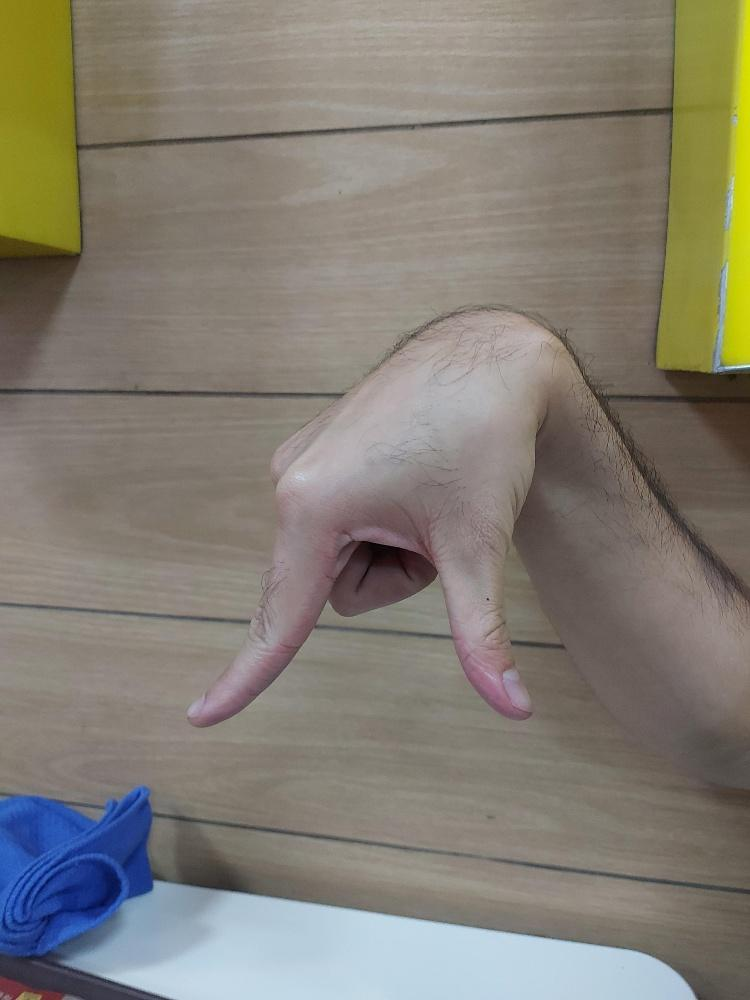q: (185, 304, 535, 728)
